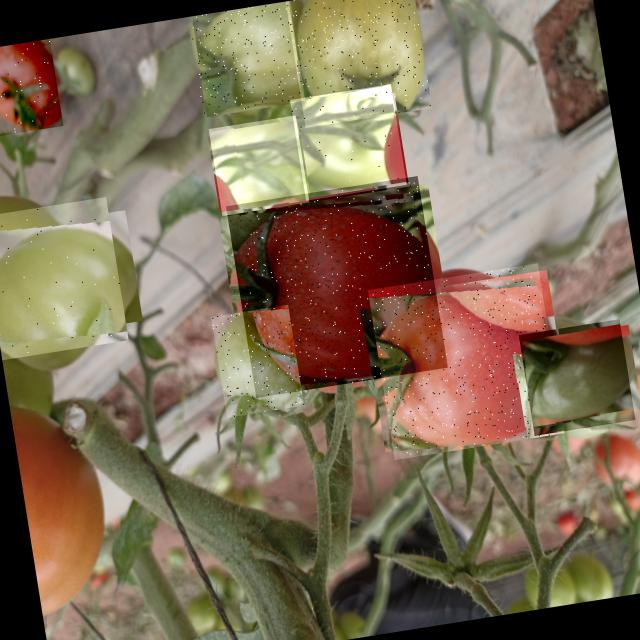Ripe Tomato: (226, 176, 448, 398), (368, 263, 565, 460), (0, 39, 63, 138)
Unripe Tomato: (0, 197, 128, 360), (286, 0, 432, 127), (519, 318, 636, 436), (290, 84, 407, 201), (188, 0, 306, 116), (211, 305, 304, 418), (208, 115, 310, 216)
